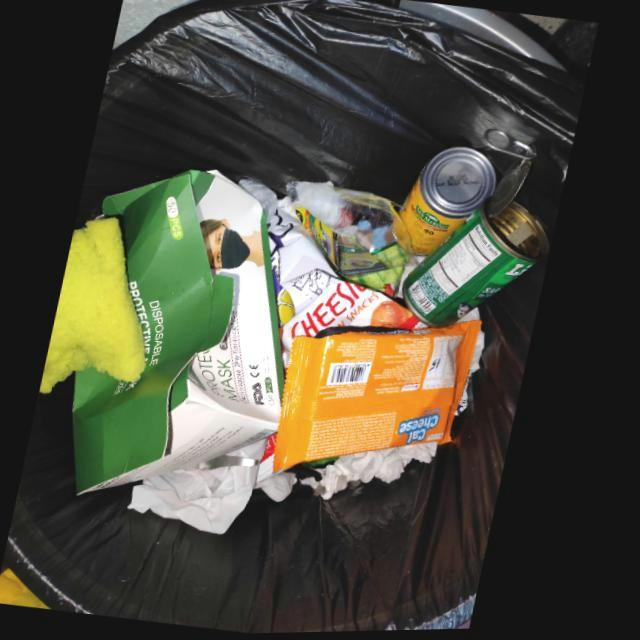aluminum: (407, 131, 553, 331), (397, 149, 500, 258)
cardboard: (78, 172, 292, 497)
food_wrapper: (281, 323, 488, 476), (271, 210, 433, 370)
paper: (310, 444, 446, 503)
